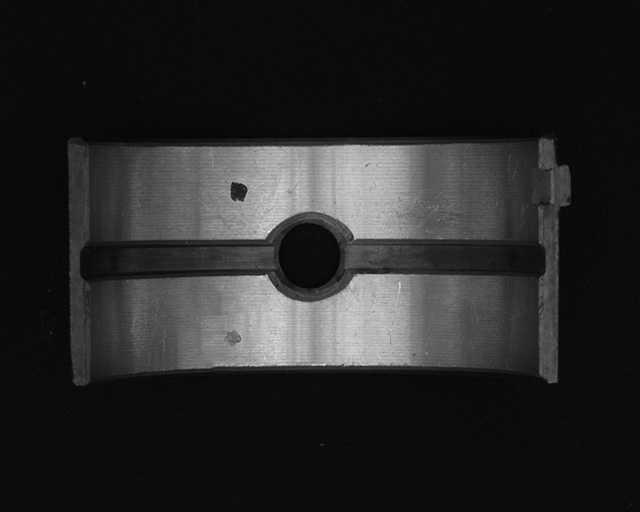blot: (230, 181, 248, 204)
bruise: (224, 329, 241, 347)
gap: (344, 238, 547, 278), (81, 239, 275, 279)
hole: (267, 217, 350, 296)
nick: (388, 281, 401, 345)
scratch: (395, 191, 485, 237)
